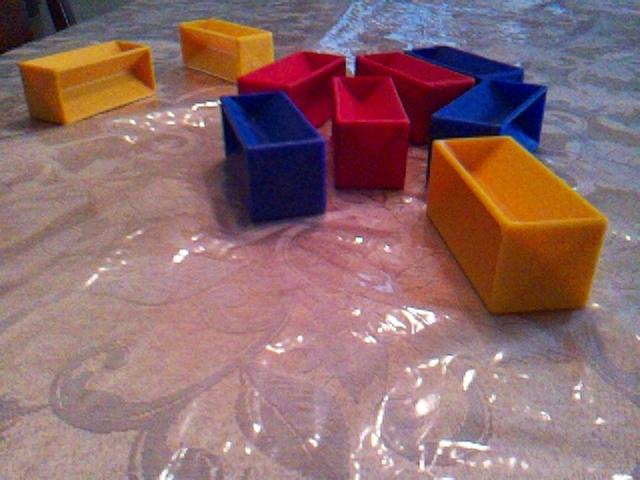blue: (218, 89, 329, 224), (428, 76, 549, 154), (403, 42, 525, 85)
red: (355, 50, 476, 145), (330, 74, 411, 191), (237, 49, 347, 129)
yellow: (425, 134, 609, 316), (18, 38, 158, 126), (178, 16, 276, 84)
